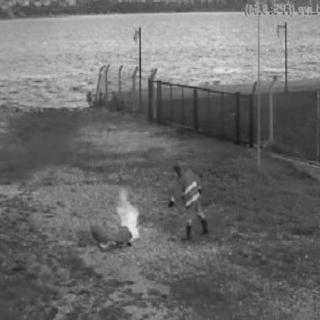Fire: (91, 184, 149, 254)
